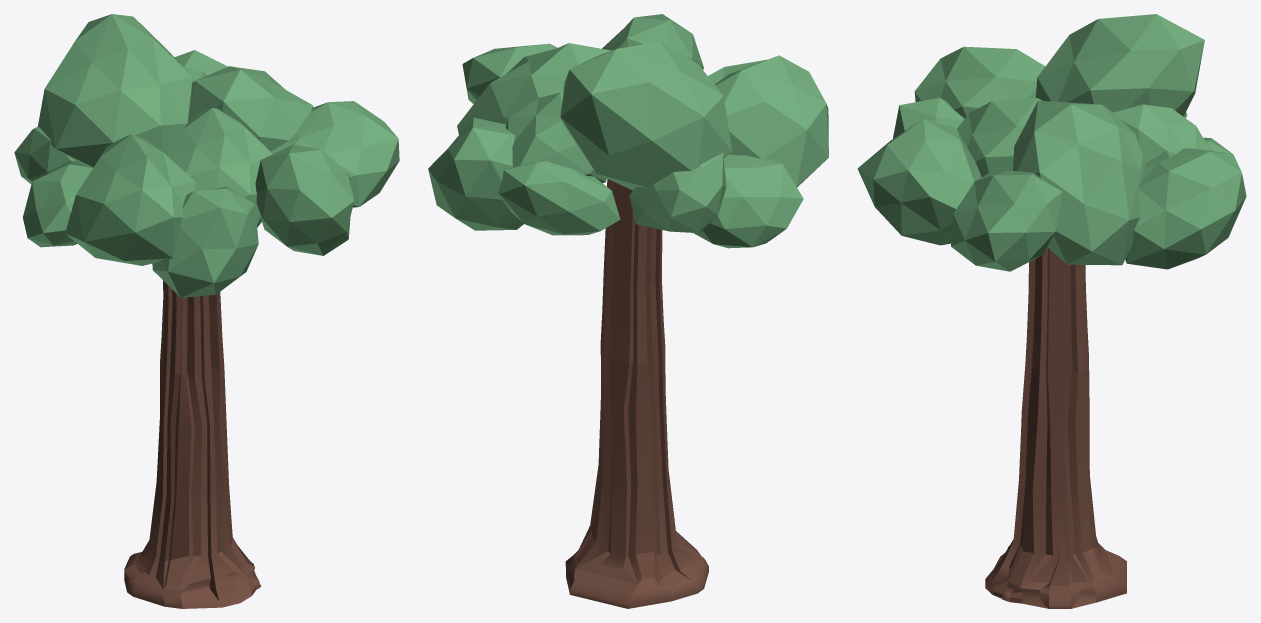
File: big tree.fbx
3 renders of one model, left to right at view 1: azimuth 30°, elevation 25°; view 2: azimuth 150°, elevation 25°; view 3: azimuth 270°, elevation 25°, orthographic. The views are drawn at different scales.
Visible parts, largest first — view 1: pCube1, pPlatonic2, pPlatonic11, pPlatonic8, pPlatonic10, pPlatonic13, pPlatonic4, pPlatonic3, pPlatonic6, pPlatonic9, pPlatonic12; view 2: pCube1, pPlatonic2, pPlatonic11, pPlatonic12, pPlatonic5, pPlatonic6, pPlatonic9, pPlatonic3, pPlatonic1, pPlatonic8, pPlatonic13; view 3: pCube1, pPlatonic3, pPlatonic2, pPlatonic12, pPlatonic8, pPlatonic13, pPlatonic11, pPlatonic4, pPlatonic1, pPlatonic10.
Part boxes in pixels (bbox=[...]): pCube1: bbox=[124, 280, 260, 608]; pPlatonic2: bbox=[37, 14, 192, 167]; pPlatonic11: bbox=[65, 134, 195, 265]; pPlatonic8: bbox=[255, 144, 354, 255]; pPlatonic10: bbox=[152, 186, 258, 297]; pPlatonic13: bbox=[271, 101, 399, 207]; pPlatonic4: bbox=[167, 108, 272, 227]; pPlatonic3: bbox=[188, 66, 313, 151]; pPlatonic6: bbox=[22, 164, 92, 247]; pPlatonic9: bbox=[14, 127, 85, 184]; pPlatonic12: bbox=[174, 50, 227, 75]; pCube1: bbox=[565, 179, 708, 608]; pPlatonic2: bbox=[560, 41, 732, 190]; pPlatonic11: bbox=[715, 55, 828, 187]; pPlatonic12: bbox=[428, 117, 523, 230]; pPlatonic5: bbox=[498, 161, 620, 235]; pPlatonic6: bbox=[693, 154, 803, 248]; pPlatonic9: bbox=[629, 153, 726, 233]; pPlatonic3: bbox=[457, 43, 611, 134]; pPlatonic1: bbox=[506, 91, 606, 182]; pPlatonic8: bbox=[602, 14, 703, 69]; pPlatonic13: bbox=[462, 43, 557, 104]; pCube1: bbox=[985, 247, 1126, 608]; pPlatonic3: bbox=[1013, 100, 1145, 265]; pPlatonic2: bbox=[1035, 14, 1204, 116]; pPlatonic12: bbox=[1125, 148, 1246, 269]; pPlatonic8: bbox=[857, 119, 981, 245]; pPlatonic13: bbox=[951, 170, 1062, 271]; pPlatonic11: bbox=[914, 46, 1045, 118]; pPlatonic4: bbox=[957, 98, 1042, 177]; pPlatonic1: bbox=[1113, 104, 1210, 166]; pPlatonic10: bbox=[893, 97, 964, 138].
Size of the model in its own units: 44.37 by 68.99 by 44.09.
